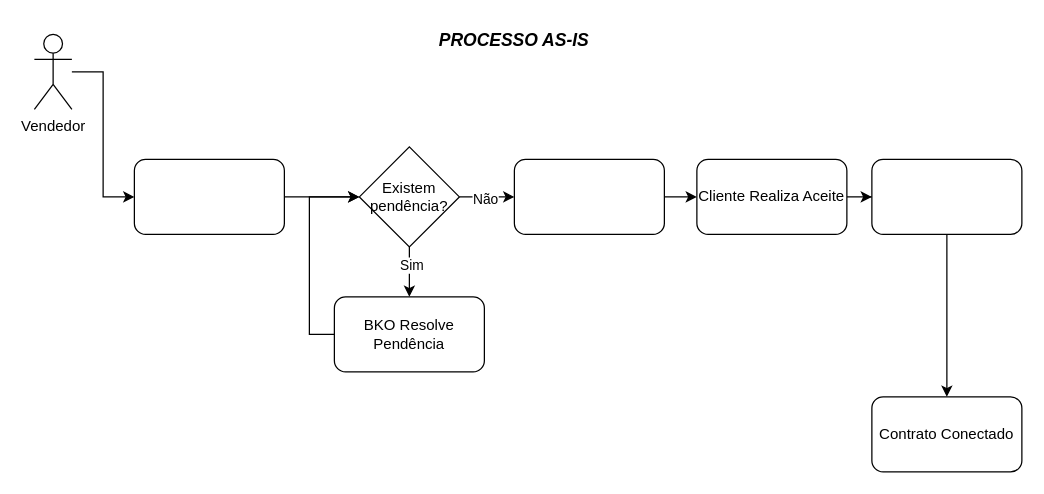
The diagram is 1044 pixels wide and 494 high, and some of its shapes have lost their labels. The shapes that lost their labels are listed below. From the top down, each one's centre as x and y in pixels, then its label:
At (x=208, y=196): "NETSales Venda Prospect/Base".
At (x=588, y=196): "Envia link Aceite Eletrônico".
At (x=946, y=196): "Agendamento Instalação".
